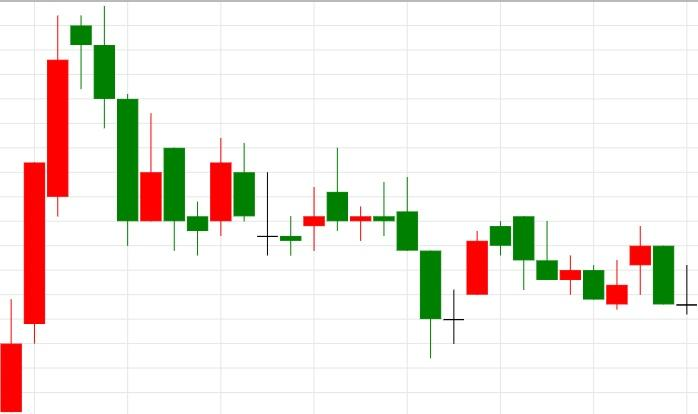morning_star_rise: (326, 147, 489, 358)
three_black_crows_fall: (0, 6, 138, 412)
